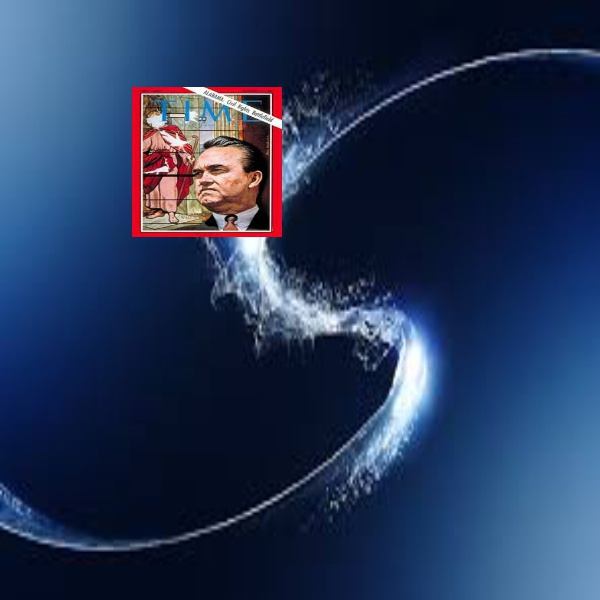time_cover: (127, 84, 284, 245)
